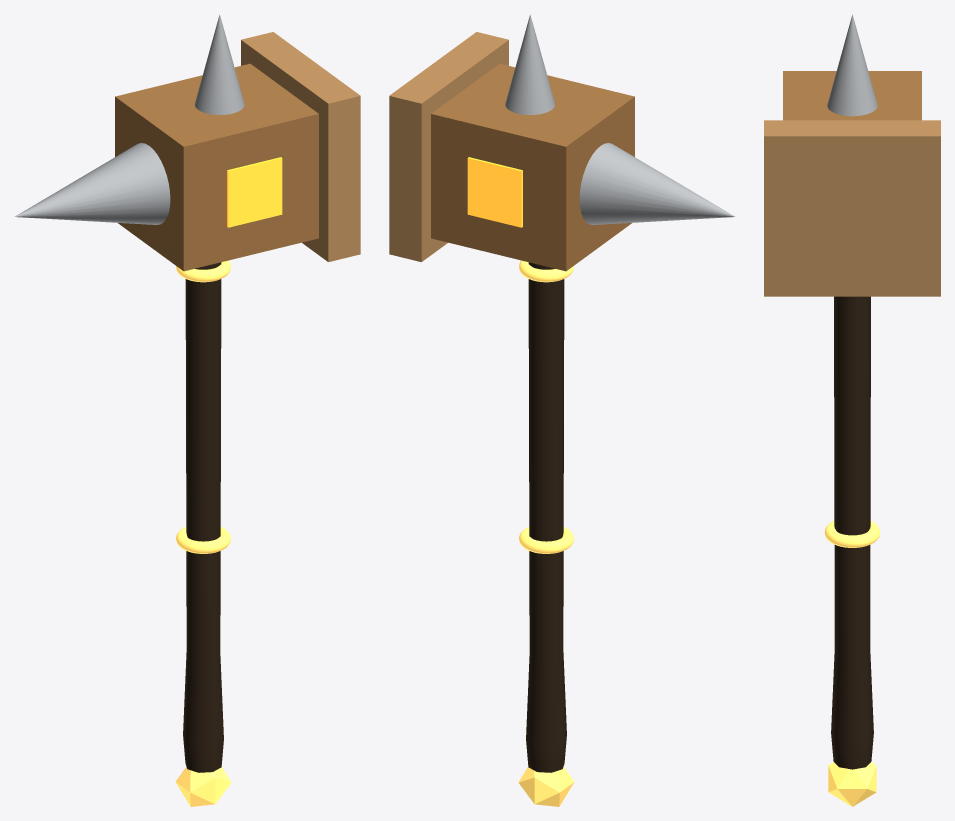
The model's file is war_hammer.glb.
The picture shows the model from 3 angles, left to right: view 1: azimuth 30°, elevation 25°; view 2: azimuth 150°, elevation 25°; view 3: azimuth 270°, elevation 25°; orthographic projection.
Parts seen in each view (by area): view 1: wh_head, wh_shaft, wh_face, wh_spike, wh_rune, wh_top, wh_pommel, wh_band2, wh_band1; view 2: wh_head, wh_shaft, wh_face, wh_spike, wh_rune, wh_top, wh_pommel, wh_band2, wh_band1; view 3: wh_face, wh_shaft, wh_head, wh_top, wh_pommel, wh_band2.
Boxes of the visible parts, left/top/right/bottom form: wh_head: left=115, top=63, right=318, bottom=271; wh_shaft: left=183, top=262, right=223, bottom=772; wh_face: left=241, top=32, right=360, bottom=261; wh_spike: left=14, top=143, right=170, bottom=224; wh_rune: left=227, top=157, right=282, bottom=227; wh_top: left=195, top=14, right=244, bottom=114; wh_pommel: left=175, top=767, right=231, bottom=806; wh_band2: left=176, top=527, right=230, bottom=553; wh_band1: left=176, top=260, right=230, bottom=282; wh_head: left=431, top=63, right=634, bottom=271; wh_shaft: left=526, top=262, right=566, bottom=772; wh_face: left=389, top=32, right=508, bottom=261; wh_spike: left=579, top=143, right=735, bottom=224; wh_rune: left=467, top=157, right=522, bottom=227; wh_top: left=505, top=14, right=554, bottom=114; wh_pommel: left=518, top=767, right=574, bottom=806; wh_band2: left=519, top=527, right=573, bottom=553; wh_band1: left=519, top=260, right=573, bottom=282; wh_face: left=764, top=120, right=940, bottom=296; wh_shaft: left=831, top=296, right=873, bottom=769; wh_head: left=783, top=71, right=921, bottom=120; wh_top: left=827, top=14, right=877, bottom=116; wh_pommel: left=828, top=762, right=876, bottom=806; wh_band2: left=824, top=521, right=880, bottom=547.
Size of the model in its own units: 0.56 by 1.39 by 0.28.
